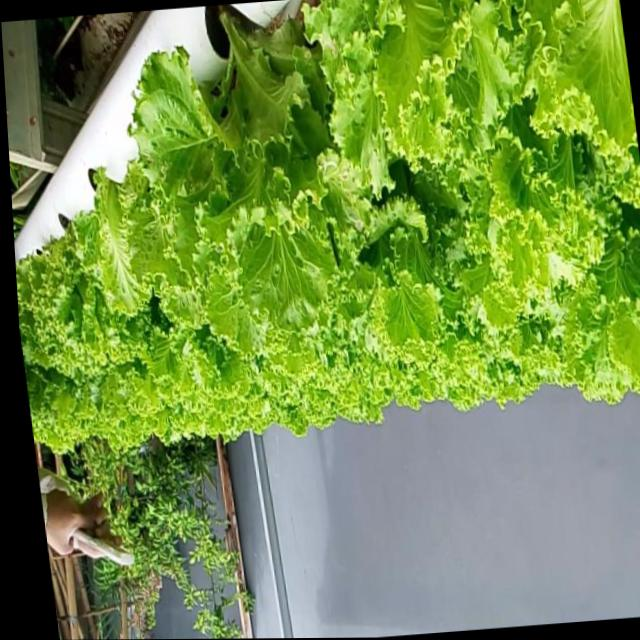Mature: (17, 0, 640, 444), (161, 22, 363, 315), (20, 184, 168, 400)
